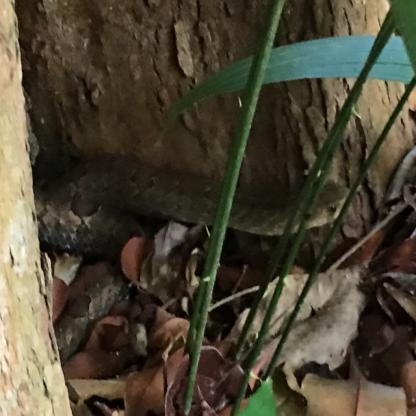Snake: (46, 148, 354, 254)
